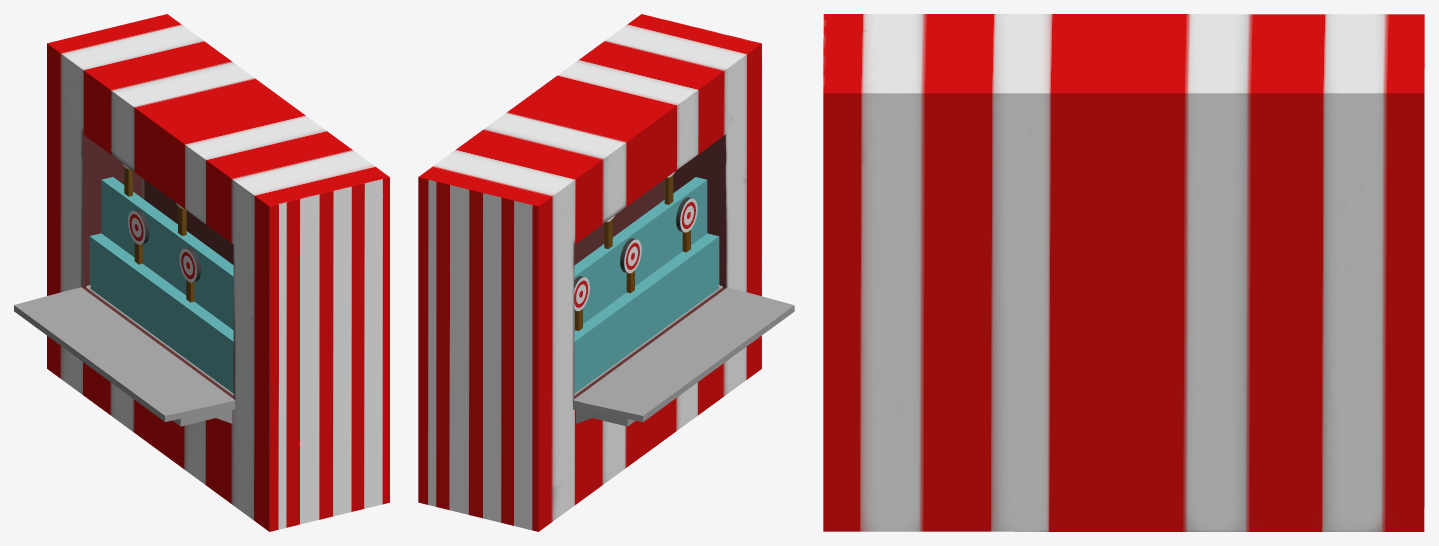
The model's file is tiroalBlancoo.fbx.
3 renders of one model, left to right at view 1: azimuth 30°, elevation 25°; view 2: azimuth 150°, elevation 25°; view 3: azimuth 270°, elevation 25°, orthographic. The views are drawn at different scales.
Visible parts, largest first — view 1: Tienda, dwn_tiroAlblanco_base, up_tiroAlBlanco_base, dwn_tiroAlBlanco_02, dwn_tiroAlBlanco_01; view 2: Tienda, dwn_tiroAlblanco_base, up_tiroAlBlanco_base, dwn_tiroAlBlanco_03, dwn_tiroAlBlanco_02, dwn_tiroAlBlanco_01; view 3: Tienda.
Boxes of the visible parts, x1,y1,x2,y2 form: Tienda: (14,14,389,531); dwn_tiroAlblanco_base: (89,233,233,393); up_tiroAlBlanco_base: (101,177,233,329); dwn_tiroAlBlanco_02: (179,247,200,302); dwn_tiroAlBlanco_01: (127,209,149,264); Tienda: (418,14,794,531); dwn_tiroAlblanco_base: (574,233,719,393); up_tiroAlBlanco_base: (574,177,707,330); dwn_tiroAlBlanco_03: (676,197,697,252); dwn_tiroAlBlanco_02: (620,238,641,293); dwn_tiroAlBlanco_01: (574,276,589,330); Tienda: (823,14,1424,531).
Size of the model in its own units: 33.33 by 54.73 by 68.
